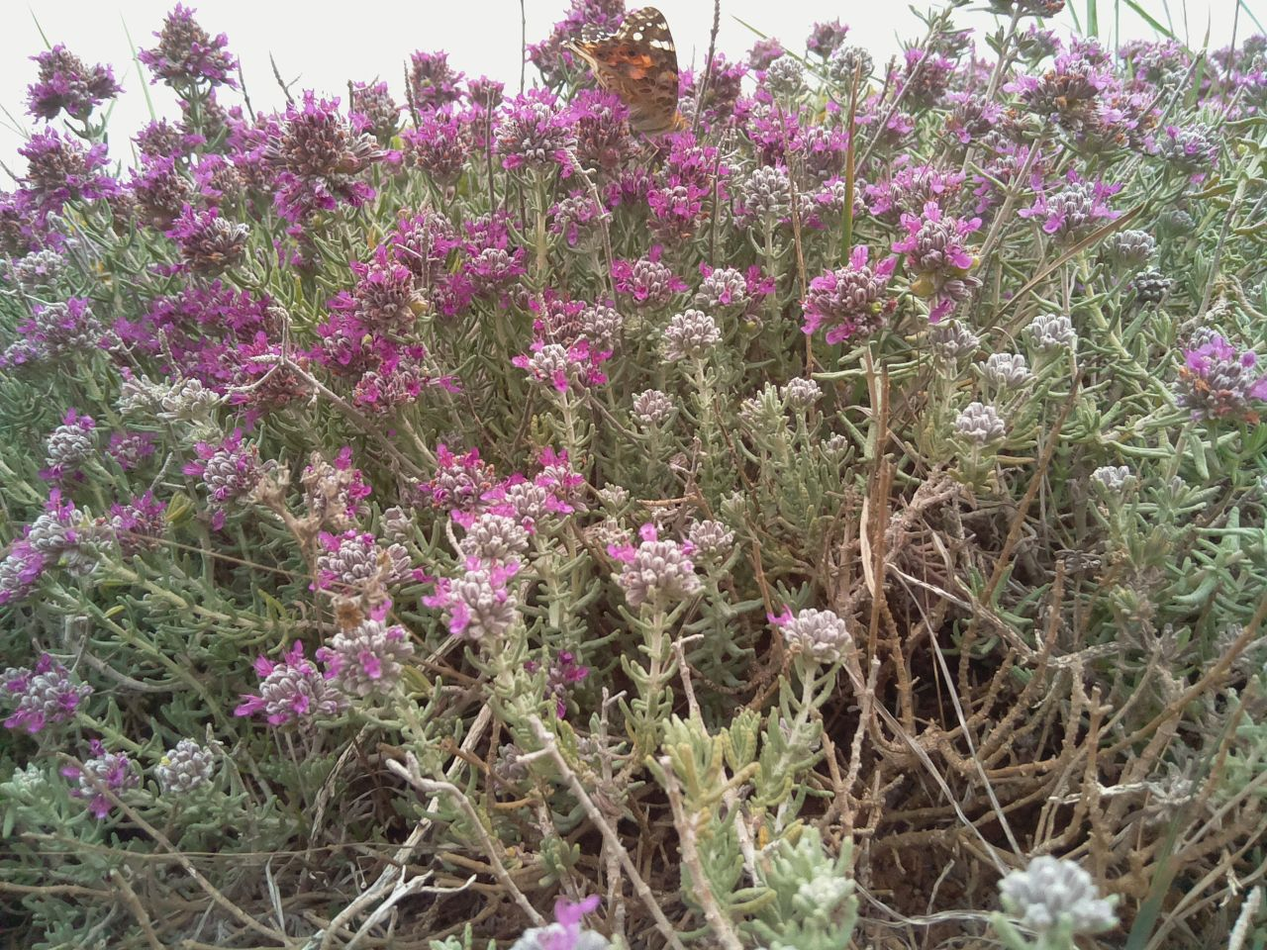Vanessa cardui: (548, 3, 702, 147)
